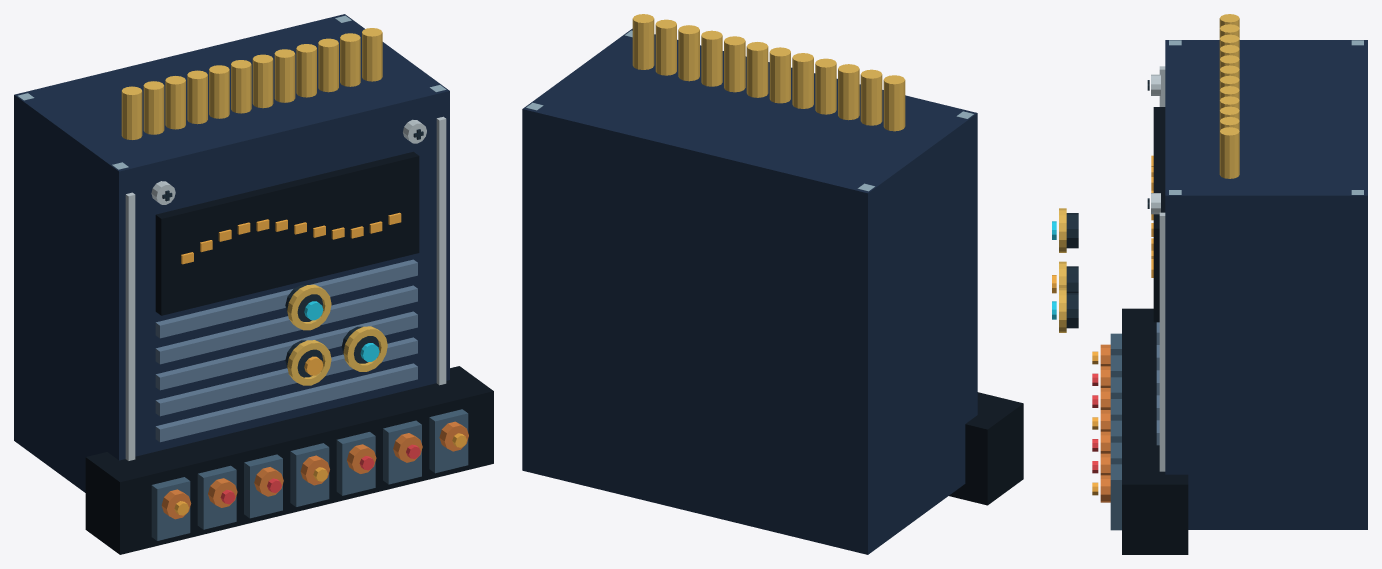
File: 19_L83_PVStringBypassDiodeBank.fbx
The picture shows the model from 3 angles, left to right: view 1: azimuth 30°, elevation 25°; view 2: azimuth 150°, elevation 25°; view 3: azimuth 270°, elevation 25°; orthographic projection. The views are drawn at different scales.
Visible parts, largest first — view 1: PVStringBypassDiodeBank; view 2: PVStringBypassDiodeBank; view 3: PVStringBypassDiodeBank.
Part boxes in pixels (<box>): PVStringBypassDiodeBank: <box>14,14,493,554</box>; PVStringBypassDiodeBank: <box>522,14,1023,554</box>; PVStringBypassDiodeBank: <box>1052,14,1367,554</box>.
Size of the model in its own units: 113 by 118 by 85.7.
